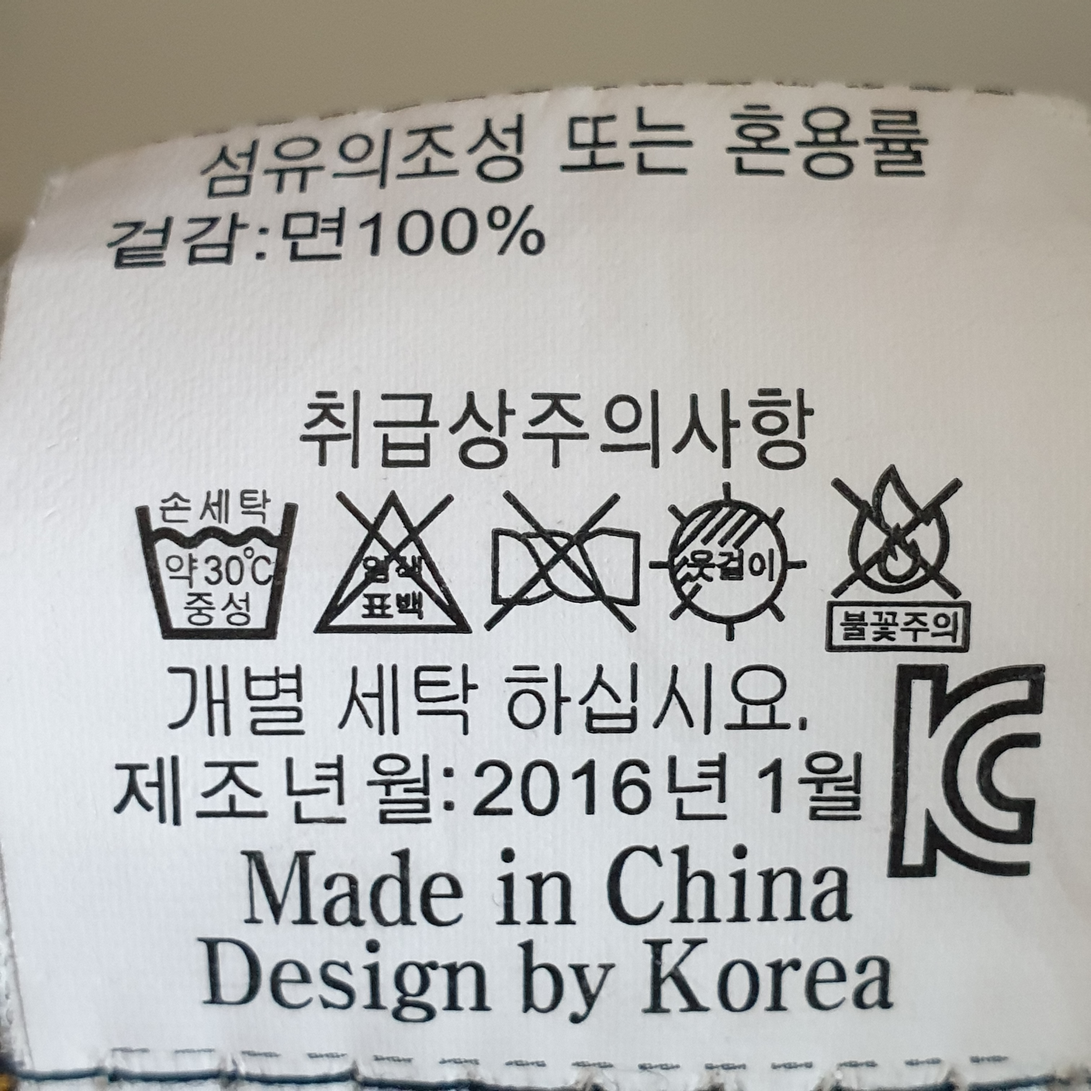KR_hand_wash_30_neutral: (127, 480, 301, 652)
KR_hang_dry_in_shade: (655, 480, 807, 639)
KR_no_chlorine_bleach: (314, 486, 472, 643)
KR_no_wring: (486, 487, 651, 633)
